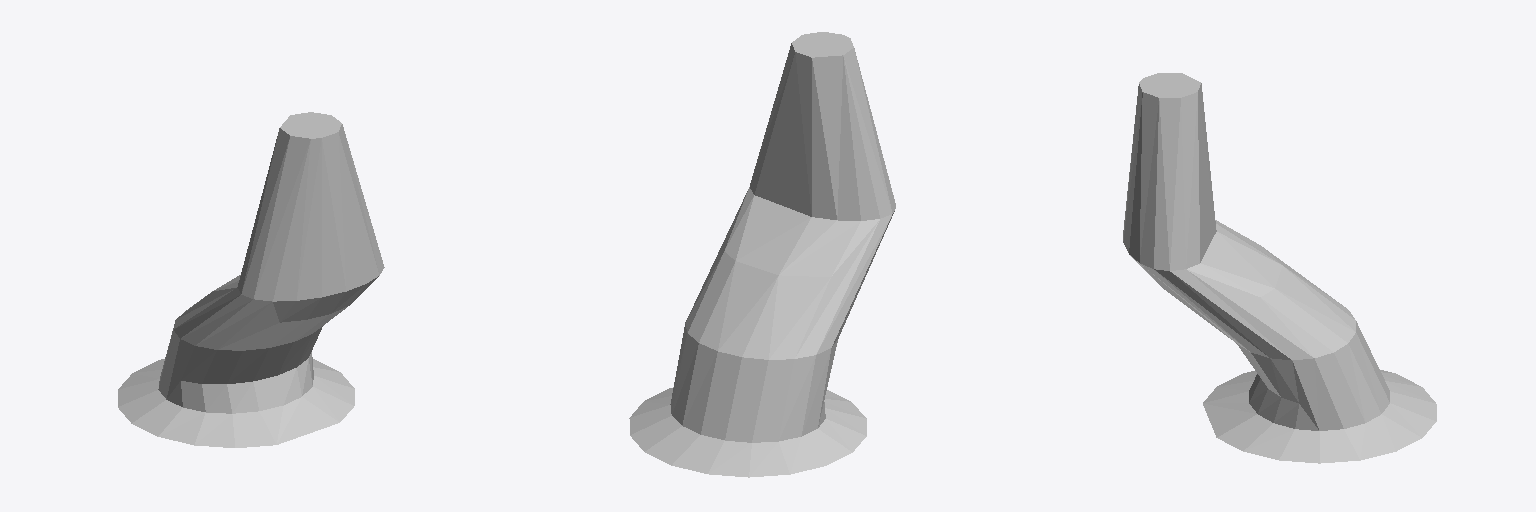
Rendered from trowel_midsection.obj.
3 views of the same model, side by side, from view 1: azimuth 30°, elevation 25°; view 2: azimuth 150°, elevation 25°; view 3: azimuth 270°, elevation 25° (orthographic).
Visible parts, largest first — view 1: trowel; view 2: trowel; view 3: trowel.
Part boxes in pixels (left/top/right/bottom): trowel: left=118, top=112, right=384, bottom=447; trowel: left=629, top=32, right=895, bottom=477; trowel: left=1123, top=73, right=1436, bottom=463.
Bounding box in the file's own units: 0.7389 × 1.15 × 0.9577.